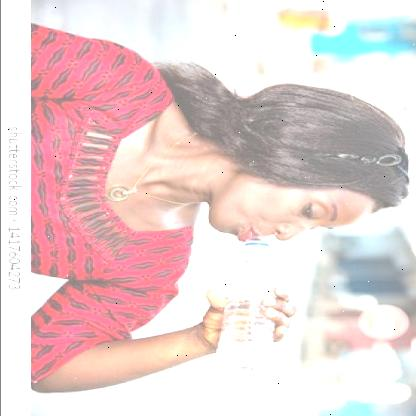Plastic Bottle: (216, 242, 280, 374)
